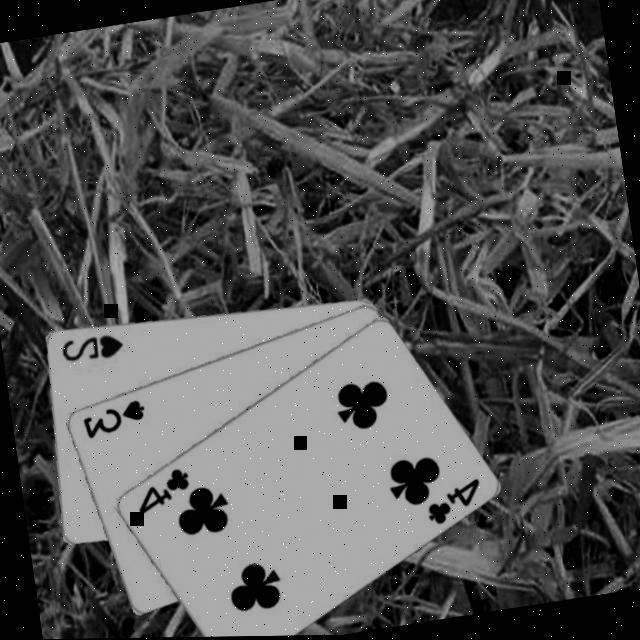2H: (56, 326, 128, 366)
3S: (78, 392, 150, 440)
4C: (420, 472, 488, 528), (130, 461, 196, 516)
